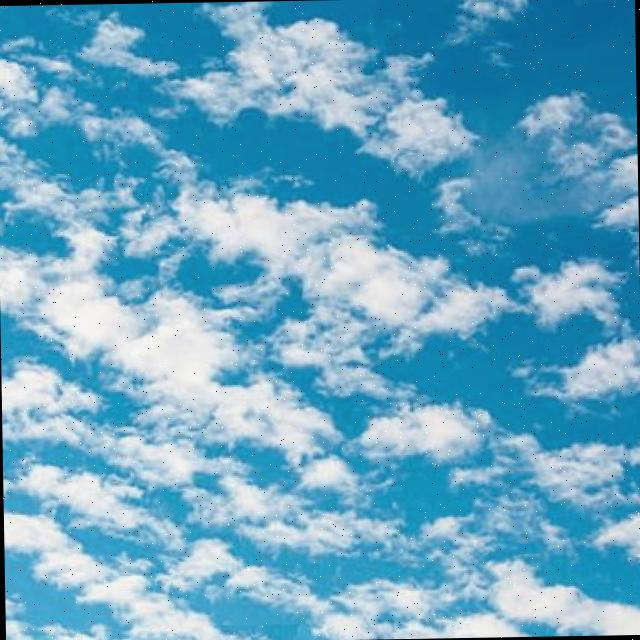Cc: (1, 120, 520, 574)
